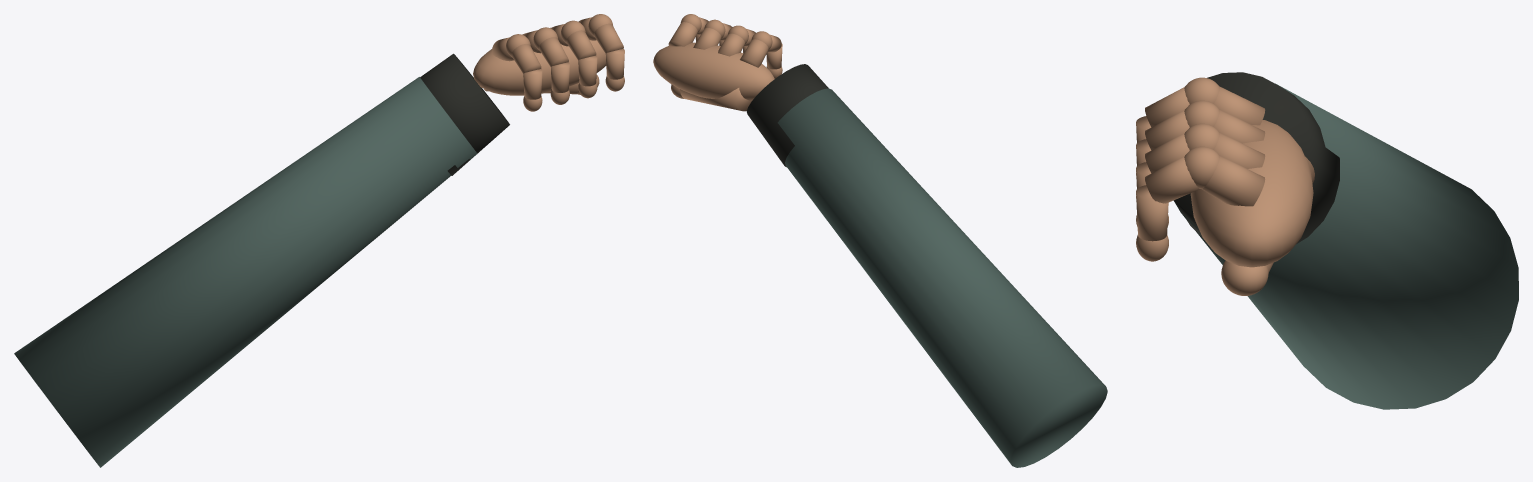
File: SM_RightArm.fbx
The picture shows the model from 3 angles, left to right: view 1: azimuth 30°, elevation 25°; view 2: azimuth 150°, elevation 25°; view 3: azimuth 270°, elevation 25°; orthographic projection. The views are drawn at different scales.
Visible parts, largest first — view 1: SM_RightArm; view 2: SM_RightArm; view 3: SM_RightArm.
Part boxes in pixels (x1,y1,x2,y2): SM_RightArm: (14, 14, 624, 467); SM_RightArm: (653, 14, 1107, 467); SM_RightArm: (1136, 72, 1518, 409).
Bounding box in the file's own units: 45.98 × 16.17 × 29.85.
